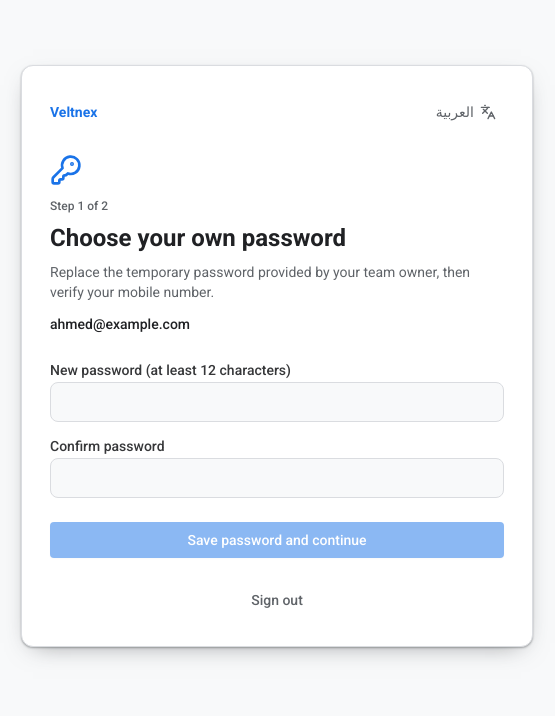
Test: First-login password change › keeps the account gated when the server rejects the new password
The image size is (555, 716).
Type "TemporaryPassword123!" into the password field labelled "New password (at least 12 characters)" at (277, 402), box [50,382,504,422]
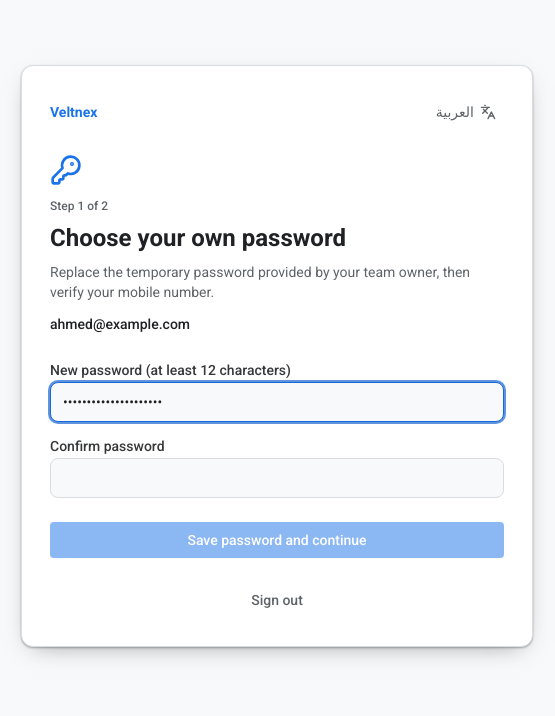
Type "TemporaryPassword123!" into the password field labelled "Confirm password" at (277, 478), box [50,458,504,498]
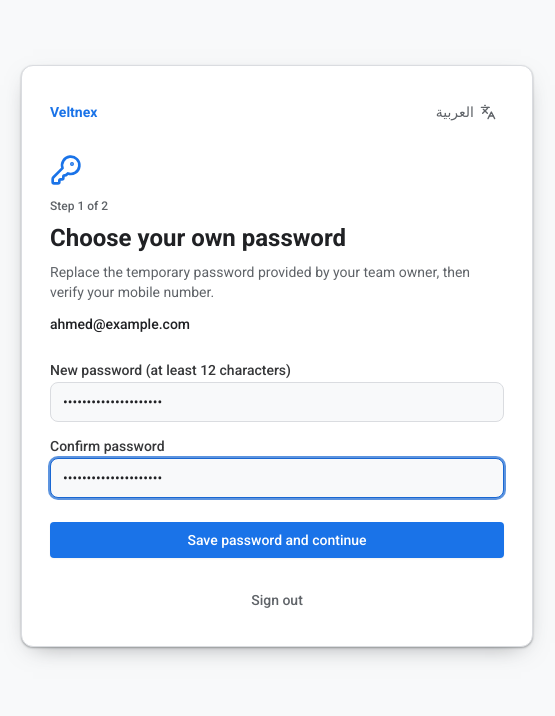
Click the button "Save password and continue" at (277, 540), box [50,522,504,558]
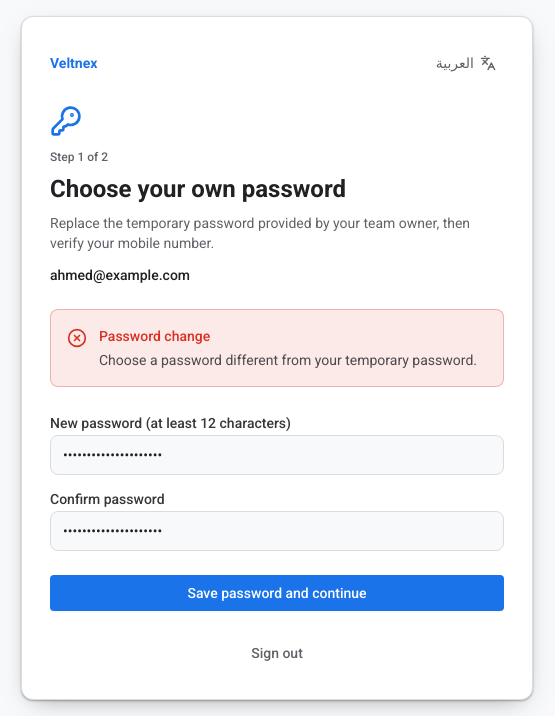
Expected: the text "Choose a password different from your temporary password." is shown, [99,350,487,370]
